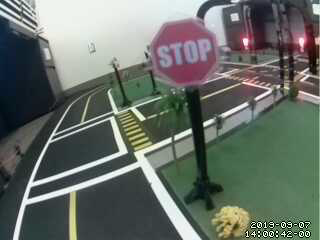Stop_Sign: (141, 13, 226, 92)
